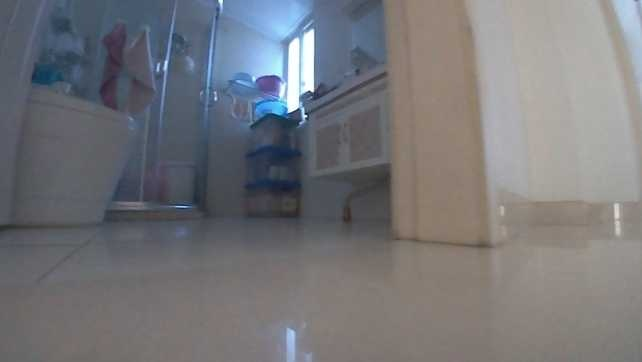toilet_part: (10, 86, 136, 224)
washstand: (303, 64, 396, 184)
